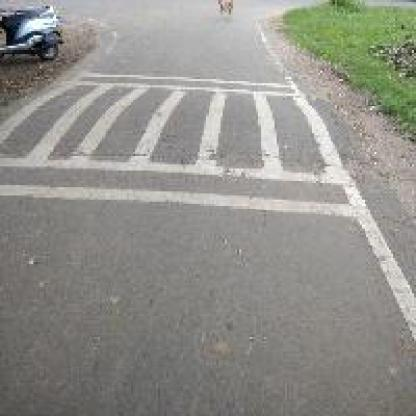Speed Bump: (0, 64, 373, 221)
